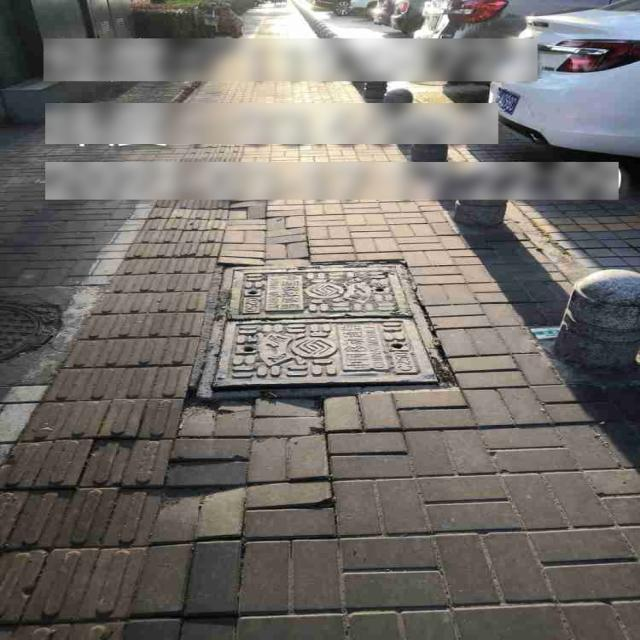Good: (200, 254, 462, 400)
